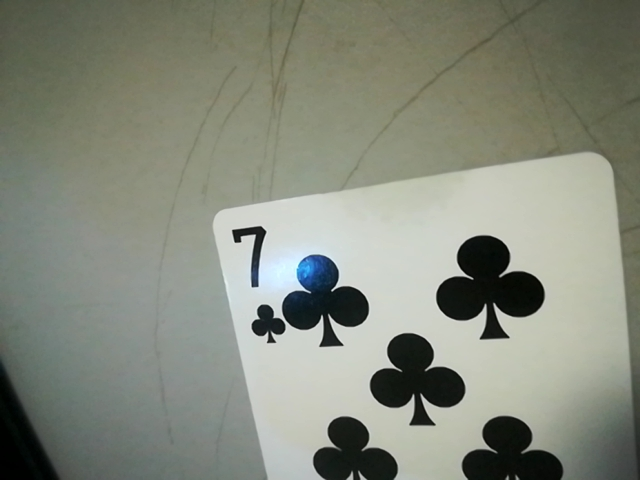mh 7: (220, 215, 281, 349)
